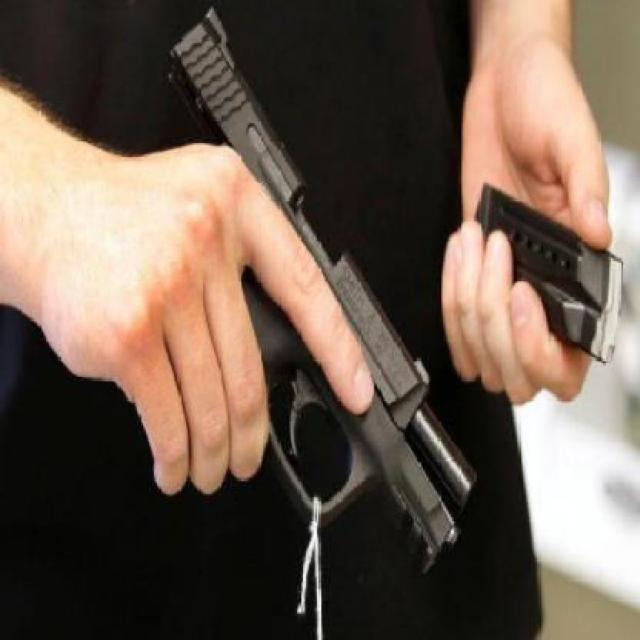gun: (118, 0, 550, 605)
